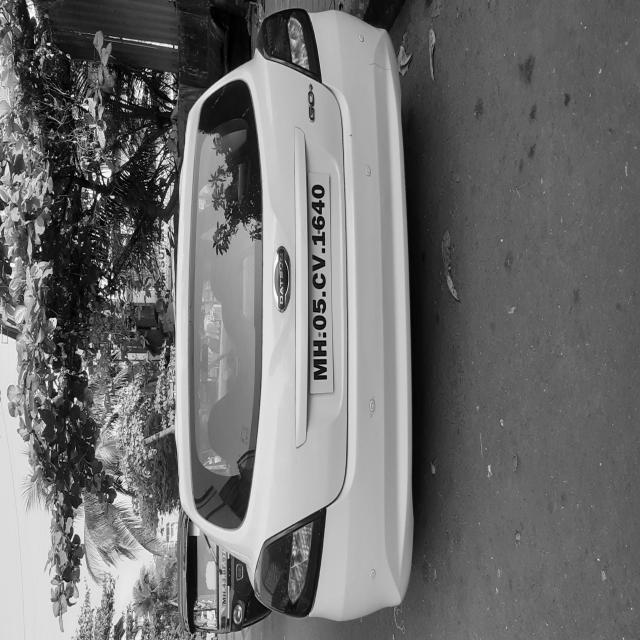car: (1, 346, 311, 640)
license-plate: (108, 616, 249, 640)
